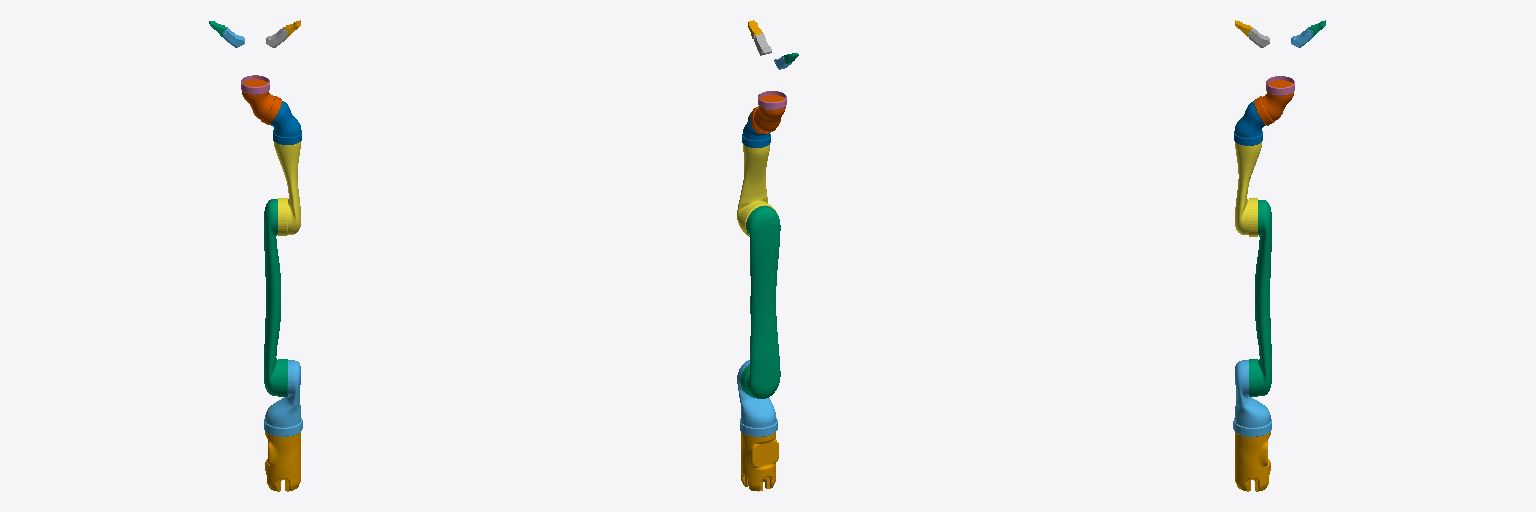
URDF robot description (jaco):
<?xml version="1.0" ?>

<robot name="jaco">

  <link name="jaco_link_base">
    <visual>
      <origin xyz="0 0 0" rpy="0 0 0" />
      <geometry>
        <mesh filename="kinova_graphics/base.obj"/>
      </geometry>
    </visual>
    <inertial>
      <mass value="0.46784"/>
      <origin rpy="0 0 0" xyz="0 0 0.1255"/>
      <inertia ixx="0.000951270861568" ixy="0" ixz="0" iyy="0.000951270861568" iyz="0" izz="0.000374272"/>
    </inertial>
  </link>

  <link name="jaco_link_1">
    <visual>
      <origin xyz="0 0 0" rpy="0 0 0" />
      <geometry>
        <mesh filename="kinova_graphics/shoulder.obj"/>
      </geometry>
    </visual>
    <visual>
      <origin xyz="0 0 0" rpy="0 0 0" />
      <geometry>
        <mesh filename="kinova_graphics/ring_big.obj"/>
      </geometry>
    </visual>
    <inertial>
      <mass value="0.7477"/>
      <origin xyz="0 -0.002 -0.0605"/>
      <inertia ixx="0.00152031725204" ixy="0" ixz="0" iyy="0.00152031725204" iyz="0" izz="0.00059816"/>
    </inertial>
  </link>

  <joint name="jaco_joint_1" type="revolute">
    <parent link="jaco_link_base"/>
    <child link="jaco_link_1"/>
    <axis xyz="0 0 1"/>
    <limit effort="2000" lower="-6.28318530718" upper="6.28318530718" velocity="1"/>
    <origin rpy="0 3.14159265359 0" xyz="0 0 0.15675"/>
  </joint>

  <link name="jaco_link_2">
    <visual>
      <origin xyz="0 0 0" rpy="0 0 0" />
      <geometry>
        <mesh filename="kinova_graphics/arm.obj"/>
      </geometry>
    </visual>
    <visual>
      <origin xyz="0 0 0" rpy="0 0 0" />
      <geometry>
        <mesh filename="kinova_graphics/ring_big.obj"/>
      </geometry>
    </visual>
    <inertial>
      <mass value="0.99"/>
      <origin xyz="0 -0.2065 -0.01"/>
      <inertia ixx="0.010502207991" ixy="0" ixz="0" iyy="0.000792" iyz="0" izz="0.010502207991"/>
    </inertial>
  </link>

  <joint name="jaco_joint_2" type="revolute">
    <parent link="jaco_link_1"/>
    <child link="jaco_link_2"/>
    <axis xyz="0 0 1"/>
    <limit effort="2000" lower="0.820304748437" upper="5.46288055874" velocity="1"/>
    <origin rpy="-1.57079632679 0 3.14159265359" xyz="0 0.0016 -0.11875"/>
  </joint>

  <link name="jaco_link_3">
    <visual>
      <origin xyz="0 0 0" rpy="0 0 0" />
      <geometry>
        <mesh filename="kinova_graphics/forearm.obj"/>
      </geometry>
    </visual>
    <visual>
      <origin xyz="0 0 0" rpy="0 0 0" />
      <geometry>
        <mesh filename="kinova_graphics/ring_big.obj"/>
      </geometry>
    </visual>
    <inertial>
      <mass value="0.6763"/>
      <origin xyz="0 0.081 -0.0086"/>
      <inertia ixx="0.00142022431908" ixy="0" ixz="0" iyy="0.000304335" iyz="0" izz="0.00142022431908"/>
    </inertial>
  </link>

  <joint name="jaco_joint_3" type="revolute">
    <parent link="jaco_link_2"/>
    <child link="jaco_link_3"/>
    <axis xyz="0 0 1"/>
    <limit effort="2000" lower="0.331612557879" upper="5.9515727493" velocity="1"/>
    <origin rpy="0 3.14159265359 0" xyz="0 -0.410 0"/>
  </joint>

  <link name="jaco_link_4">
    <visual>
      <origin xyz="0 0 0" rpy="0 0 0" />
      <geometry>
        <mesh filename="kinova_graphics/wrist.obj"/>
      </geometry>
    </visual>
    <visual>
      <origin xyz="0 0 0" rpy="0 0 0" />
      <geometry>
        <mesh filename="kinova_graphics/ring_small.obj"/>
      </geometry>
    </visual>
    <inertial>
      <mass value="0.426367"/>
      <origin xyz="0 -0.037 -0.0642"/>
      <inertia ixx="7.73496906e-05" ixy="0" ixz="0" iyy="7.73496906e-05" iyz="0" izz="0.0001428"/>
    </inertial>
  </link>

  <joint name="jaco_joint_4" type="revolute">
    <parent link="jaco_link_3"/>
    <child link="jaco_link_4"/>
    <axis xyz="0 0 1"/>
    <limit effort="2000" lower="-6.28318530718" upper="6.28318530718" velocity="1"/>
    <origin rpy="-1.57079632679 0 3.14159265359" xyz="0 0.2073 -0.0114"/>
  </joint>

  <link name="jaco_link_5">
    <visual>
      <origin xyz="0 0 0" rpy="0 0 0" />
      <geometry>
        <mesh filename="kinova_graphics/wrist.obj"/>
      </geometry>
    </visual>
    <visual>
      <origin xyz="0 0 0" rpy="0 0 0" />
      <geometry>
        <mesh filename="kinova_graphics/ring_small.obj"/>
      </geometry>
    </visual>
    <inertial>
      <mass value="0.426367"/>
      <origin xyz="0 -0.037 -0.0642"/>
      <inertia ixx="7.73496906e-05" ixy="0" ixz="0" iyy="7.73496906e-05" iyz="0" izz="0.0001428"/>
    </inertial>
  </link>

  <joint name="jaco_joint_5" type="revolute">
    <parent link="jaco_link_4"/>
    <child link="jaco_link_5"/>
    <axis xyz="0 0 1"/>
    <limit effort="2000" lower="-6.28318530718" upper="6.28318530718" velocity="1"/>
    <origin rpy="1.0471975512 0 3.14159265359" xyz="0 -0.03703 -0.06414"/>
  </joint>

  <link name="jaco_link_6">
    <visual>
      <origin xyz="0 0 0" rpy="0 0 0" />
      <geometry>
        <mesh filename="kinova_graphics/hand_2finger.obj"/>
      </geometry>
    </visual>
    <visual>
      <origin xyz="0 0 0" rpy="0 0 0" />
      <geometry>
        <mesh filename="kinova_graphics/ring_small.obj"/>
      </geometry>
    </visual>
    <inertial>
      <mass value="0.78"/>
      <origin xyz="0 0 -0.06"/>
      <inertia ixx="0.000370498518" ixy="0" ixz="0" iyy="0.000370498518" iyz="0" izz="0.000624"/>
    </inertial>
  </link>

  <joint name="jaco_joint_6" type="revolute">
    <parent link="jaco_link_5"/>
    <child link="jaco_link_6"/>
    <axis xyz="0 0 1"/>
    <limit effort="2000" lower="-6.28318530718" upper="6.28318530718" velocity="1"/>
    <origin rpy="1.0471975512 0 3.14159265359" xyz="0 -0.03703 -0.06414"/>
  </joint>

  <link name="jaco_link_finger_1">
    <visual>
      <origin xyz="0 0 0" rpy="0 0 0" />
      <geometry>
        <mesh filename="kinova_graphics/finger_proximal.obj"/>
      </geometry>
    </visual>
    <inertial>
      <mass value="0.01"/>
      <origin xyz="0.022 0 0"/>
      <inertia ixx="7.8999684e-07" ixy="0" ixz="0" iyy="7.8999684e-07" iyz="0" izz="8e-08"/>
    </inertial>
  </link>

  <joint name="jaco_joint_finger_1" type="fixed">
    <parent link="jaco_link_6"/>
    <child link="jaco_link_finger_1"/>
    <axis xyz="0 0 1"/>
    <origin rpy="-1.570796327 .649262481663582 1.57079632679490" xyz="-0.0025 0.03095 -0.11482"/>
    <limit effort="2000" lower="0" upper="2" velocity="1"/>
  </joint>

  <link name="jaco_link_finger_tip_1">
    <visual>
      <origin xyz="0 0 0" rpy="0 0 0" />
      <geometry>
        <mesh filename="kinova_graphics/finger_distal.obj"/>
      </geometry>
    </visual>
    <inertial>
      <mass value="0.01"/>
      <origin xyz="0.022 0 0"/>
      <inertia ixx="7.8999684e-07" ixy="0" ixz="0" iyy="7.8999684e-07" iyz="0" izz="8e-08"/>
    </inertial>
  </link>

  <joint name="jaco_joint_finger_tip_1" type="fixed">
    <parent link="jaco_link_finger_1"/>
    <child link="jaco_link_finger_tip_1"/>
    <axis xyz="0 0 1"/>
    <origin rpy="0 0 0" xyz="0.044 -0.003 0"/>
    <limit effort="2000" lower="0" upper="2" velocity="1"/>
  </joint>

  <link name="jaco_link_finger_2">
    <visual>
      <origin xyz="0 0 0" rpy="0 0 0" />
      <geometry>
        <mesh filename="kinova_graphics/finger_proximal.obj"/>
      </geometry>
    </visual>
    <inertial>
      <mass value="0.01"/>
      <origin xyz="0.022 0 0"/>
      <inertia ixx="7.8999684e-07" ixy="0" ixz="0" iyy="7.8999684e-07" iyz="0" izz="8e-08"/>
    </inertial>
  </link>

  <joint name="jaco_joint_finger_2" type="fixed">
    <parent link="jaco_link_6"/>
    <child link="jaco_link_finger_2"/>
    <axis xyz="0 0 1"/>
    <origin rpy="-1.570796327 .649262481663582 -1.57079632679490" xyz="-0.0025 -0.03095 -0.11482"/>
    <limit effort="2000" lower="0" upper="2" velocity="1"/>
  </joint>

  <link name="jaco_link_finger_tip_2">
    <visual>
      <origin xyz="0 0 0" rpy="0 0 0" />
      <geometry>
        <mesh filename="kinova_graphics/finger_distal.obj"/>
      </geometry>
    </visual>
    <inertial>
      <mass value="0.01"/>
      <origin xyz="0.022 0 0"/>
      <inertia ixx="7.8999684e-07" ixy="0" ixz="0" iyy="7.8999684e-07" iyz="0" izz="8e-08"/>
    </inertial>
  </link>

  <joint name="jaco_joint_finger_tip_2" type="fixed">
    <parent link="jaco_link_finger_2"/>
    <child link="jaco_link_finger_tip_2"/>
    <axis xyz="0 0 1"/>
    <origin rpy="0 0 0" xyz="0.044 -0.003 0"/>
    <limit effort="2000" lower="0" upper="2" velocity="1"/>
  </joint>

</robot>

--- Facts derived from the render (not from the file) ---
3 views of the same robot in one strip: view 1: azimuth 90°, elevation 25°; view 2: azimuth 210°, elevation 25°; view 3: azimuth 270°, elevation 25° (orthographic).
Robot: jaco — 11 links, 10 joints (6 revolute, 4 fixed); root link jaco_link_base; default pose: all joints at 0 but 2 set to mid-range because 0 is outside their limits (jaco_joint_2 = 3.14, jaco_joint_3 = 3.14).
Visible links, largest first — view 1: jaco_link_2, jaco_link_base, jaco_link_1, jaco_link_3, jaco_link_5, jaco_link_4; view 2: jaco_link_2, jaco_link_base, jaco_link_3, jaco_link_1, jaco_link_5; view 3: jaco_link_2, jaco_link_base, jaco_link_1, jaco_link_3, jaco_link_5, jaco_link_4.
Boxes of the visible links, <box> form: jaco_link_2: <box>264,199,287,396</box>; jaco_link_base: <box>265,432,300,491</box>; jaco_link_1: <box>264,360,302,436</box>; jaco_link_3: <box>274,142,300,235</box>; jaco_link_5: <box>242,79,281,124</box>; jaco_link_4: <box>270,101,301,144</box>; jaco_link_2: <box>740,206,780,398</box>; jaco_link_base: <box>741,432,778,491</box>; jaco_link_3: <box>737,144,776,236</box>; jaco_link_1: <box>737,360,777,436</box>; jaco_link_5: <box>750,95,785,133</box>; jaco_link_2: <box>1249,200,1271,396</box>; jaco_link_base: <box>1235,432,1270,491</box>; jaco_link_1: <box>1233,360,1271,436</box>; jaco_link_3: <box>1235,142,1261,236</box>; jaco_link_5: <box>1254,80,1293,125</box>; jaco_link_4: <box>1234,101,1265,145</box>.
Size in the robot's own frame: 0.0889 by 0.215 by 1.18 metres.
16 mesh visuals loaded from 10 distinct referenced files (9 OBJ); not drawn: 1 (reference not matched to a file when rendering).
